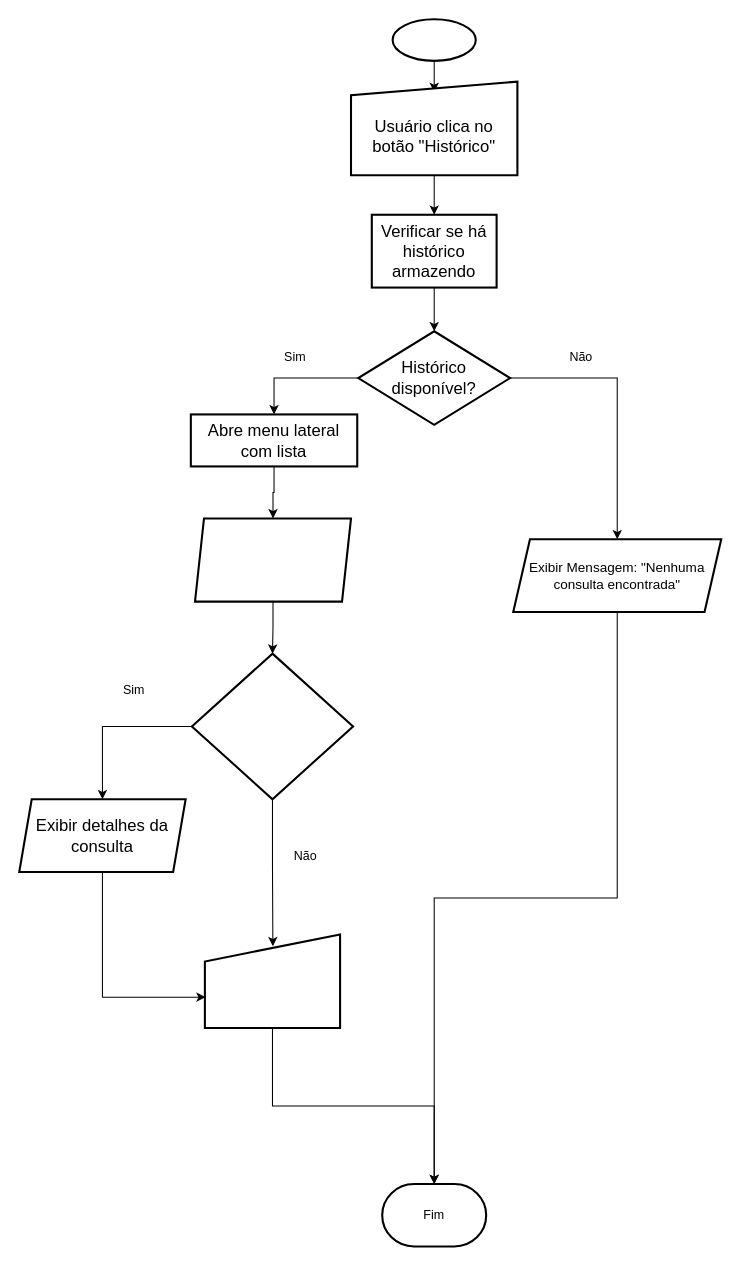
Some shapes in this 739 by 1265 pixel diagram are drawn without their labels. Here are the shapes that lost their labels. From the top down, the centre of each, then its label:
At point 433,39: "Início".
At point 272,559: "Mostrar: Moeda, data/hora".
At point 272,726: "Usuário seleciona item do histórico?".
At point 272,981: "Usuário fecha o menu".
